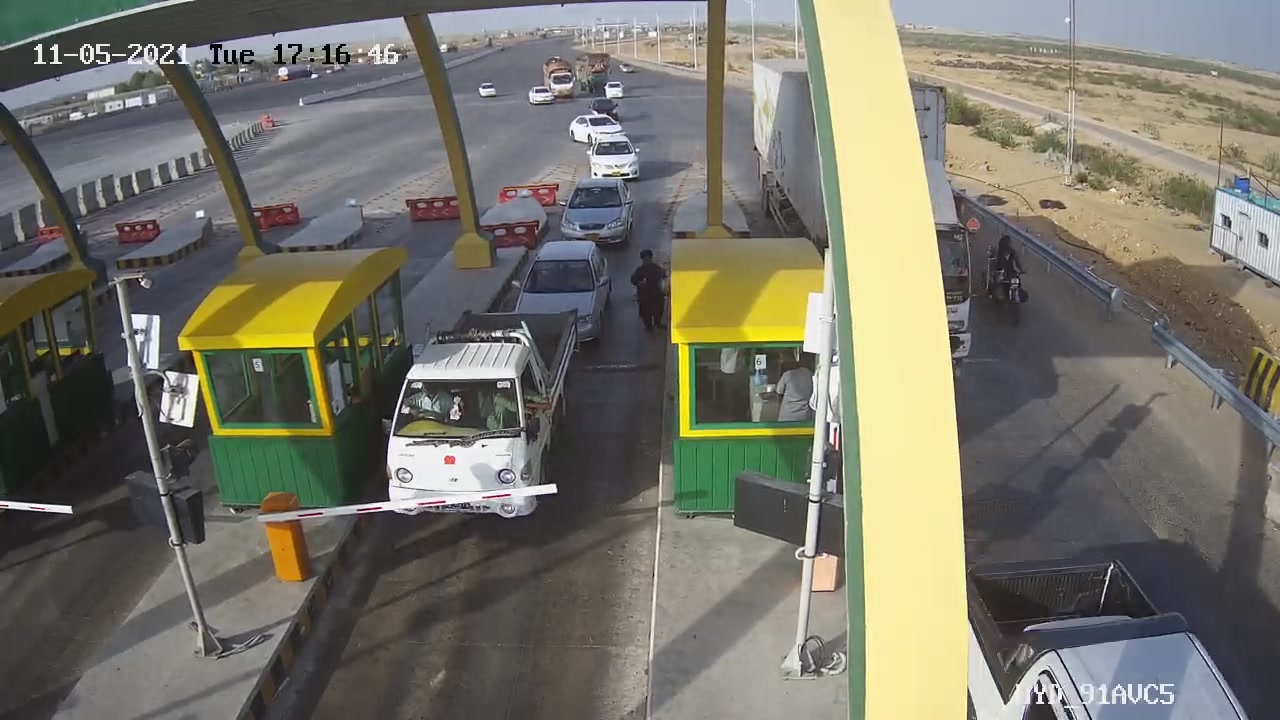F1: (546, 169, 646, 249)
F2: (378, 301, 598, 528)
